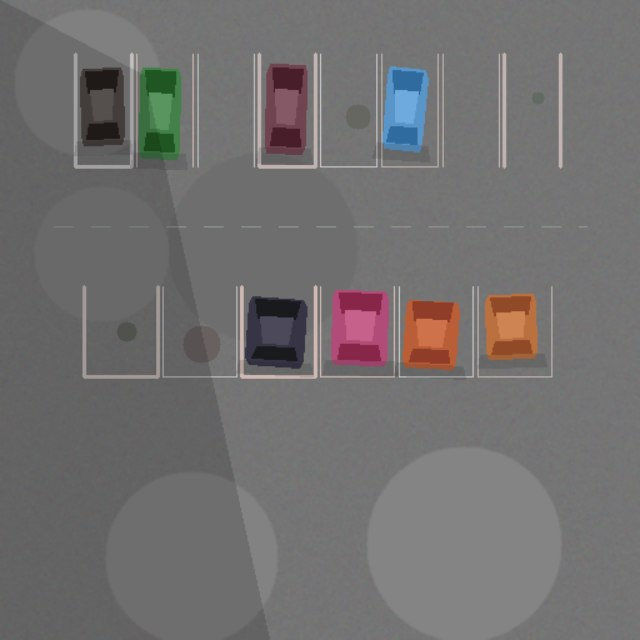space-empty: (84, 286, 158, 376), (162, 286, 236, 376), (197, 54, 254, 166), (320, 54, 376, 166), (443, 54, 499, 166), (504, 54, 560, 166)
space-occupied: (241, 286, 315, 376), (320, 286, 394, 376), (399, 286, 472, 376), (478, 286, 551, 376), (136, 54, 193, 166), (75, 54, 131, 166), (259, 54, 315, 166), (381, 54, 437, 166)
